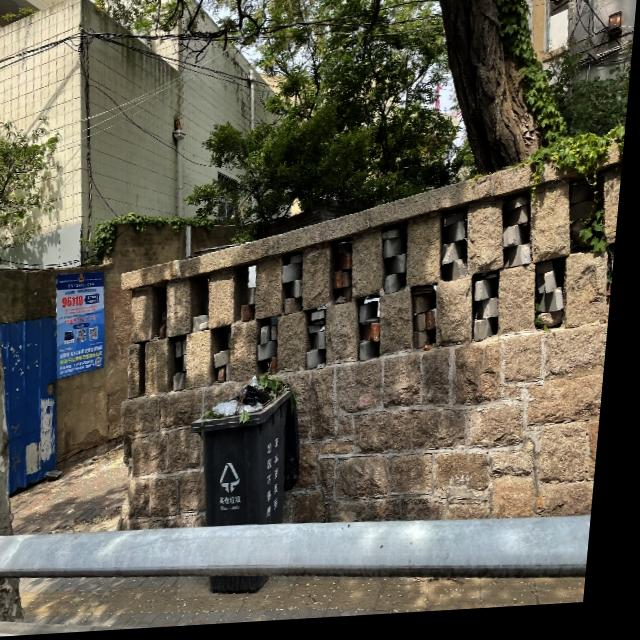overflow: (188, 375, 313, 601)
